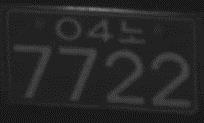0: (54, 16, 82, 41)
2: (150, 50, 191, 107), (105, 48, 145, 105)
4: (88, 18, 112, 43)
7: (12, 43, 52, 97), (59, 45, 96, 101)
노: (119, 21, 145, 44)
